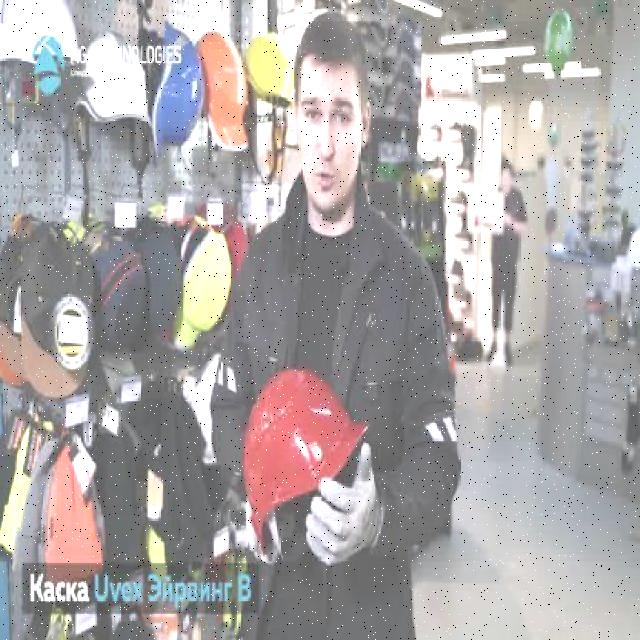Gloves: (304, 441, 378, 567)
Helmet: (240, 366, 372, 560), (150, 12, 206, 175), (72, 29, 157, 132), (193, 30, 252, 156), (0, 0, 88, 74), (242, 29, 298, 109)
